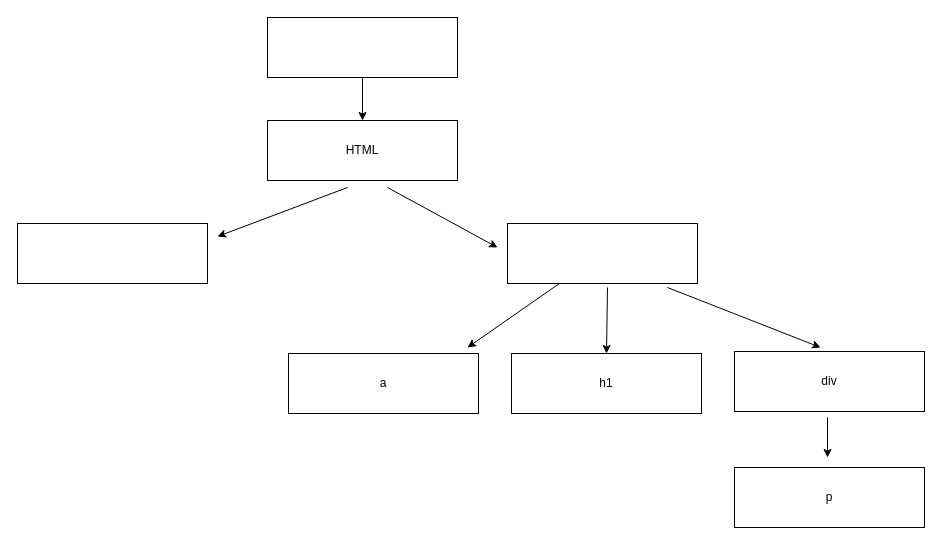
Image size: 942x545. Some labels were removed from this diagram. Each missing label, with the box of its shape:
BODY: (506, 222, 698, 284)
DOCUMENT: (266, 16, 458, 78)
HEAD: (16, 222, 208, 284)
